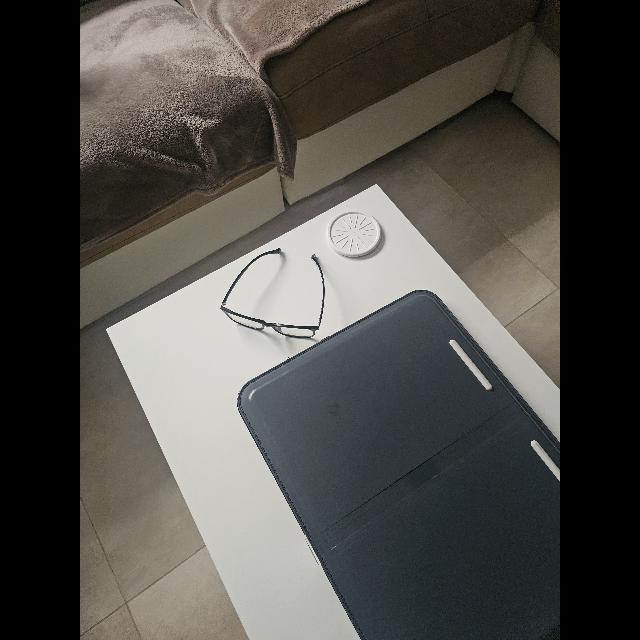glasses: (221, 248, 325, 338)
